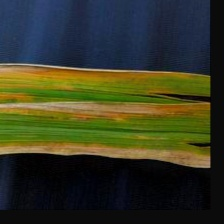Leaf_Blast: (0, 65, 205, 160)
